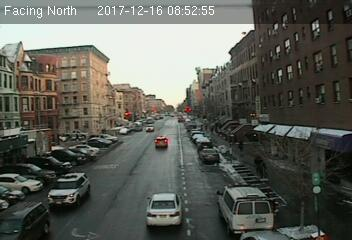car: (1, 200, 51, 240), (145, 192, 183, 228), (199, 148, 220, 164), (155, 136, 168, 147)
police: (215, 181, 277, 235), (46, 171, 91, 209)
